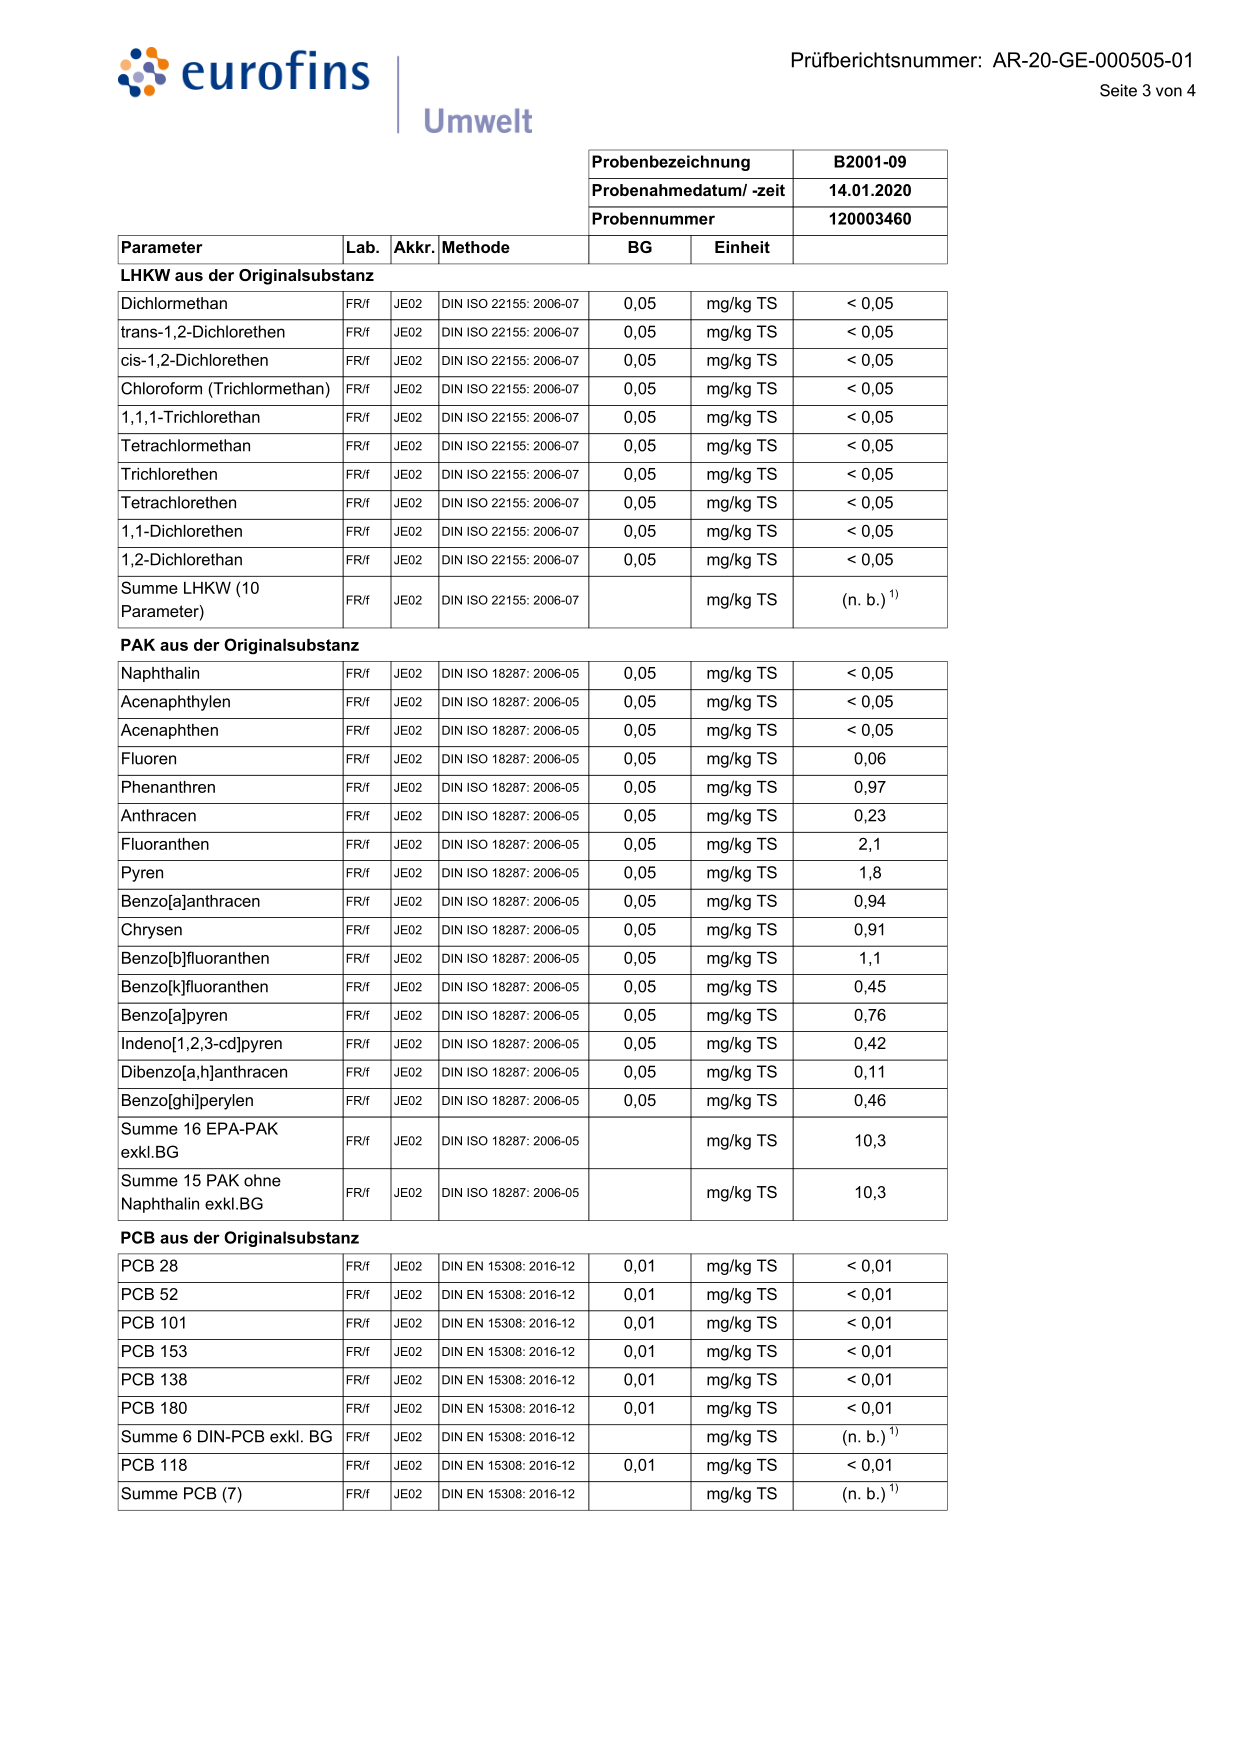table: (106, 655, 960, 1225), (110, 286, 958, 632), (103, 1248, 966, 1524)
